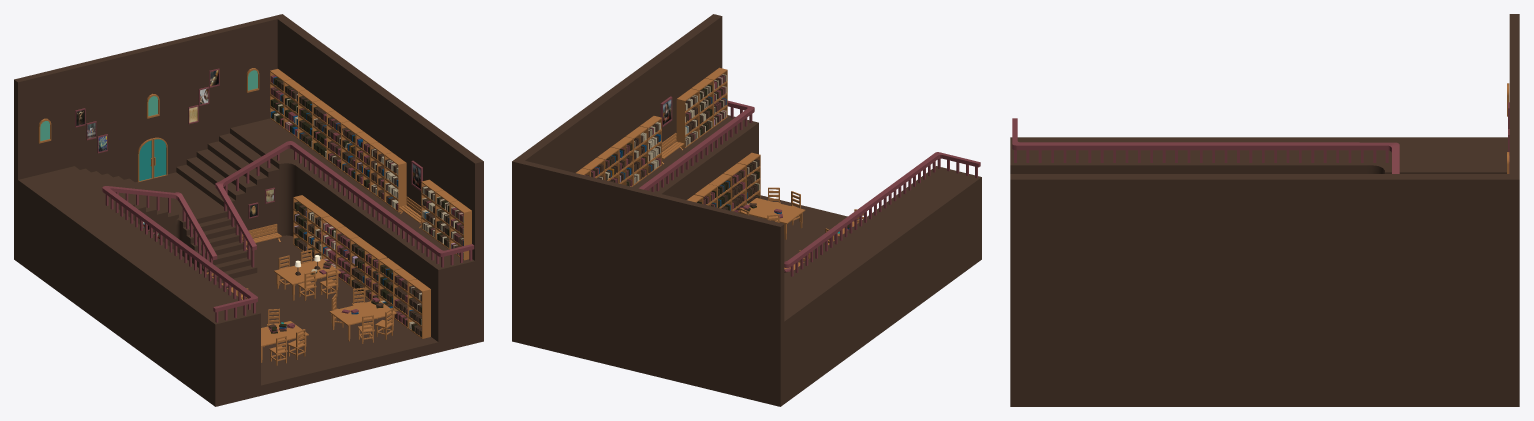
The model's file is library_low_poly.glb.
The picture shows the model from 3 angles, left to right: view 1: azimuth 30°, elevation 25°; view 2: azimuth 150°, elevation 25°; view 3: azimuth 270°, elevation 25°; orthographic projection. The views are drawn at different scales.
Parts seen in each view (by area): view 1: pCube1, pCube52, pCube407, pCube78, pCube104, polySurface568, polySurface828, polySurface633, pCube54, polySurface368, polySurface880, polySurface937 (+11 smaller); view 2: pCube1, pCube52, pCube78, polySurface763, polySurface880, polySurface937, polySurface828, polySurface633, polySurface698; view 3: pCube1, pCube52.
Part boxes in pixels (x1,y1,x2,y2): pCube1: [14, 14, 483, 406]; pCube52: [102, 141, 474, 322]; pCube407: [137, 137, 167, 182]; pCube78: [329, 301, 396, 341]; pCube104: [274, 259, 340, 300]; polySurface568: [408, 279, 430, 338]; polySurface828: [384, 152, 406, 212]; polySurface633: [450, 200, 471, 260]; pCube54: [261, 321, 308, 362]; polySurface368: [364, 247, 387, 301]; polySurface880: [370, 142, 391, 201]; polySurface937: [356, 132, 377, 191]; pCube1: [512, 14, 981, 406]; pCube52: [639, 100, 980, 276]; pCube78: [738, 198, 805, 239]; polySurface763: [676, 89, 698, 148]; polySurface880: [626, 126, 647, 185]; polySurface937: [611, 136, 633, 186]; polySurface828: [640, 116, 661, 175]; polySurface633: [705, 67, 727, 127]; polySurface698: [691, 78, 713, 137]; pCube1: [1010, 14, 1519, 406]; pCube52: [1012, 118, 1399, 173].
Size of the model in its own units: 0.2725 by 0.1746 by 0.3541.
24 materials, 13 textured.
